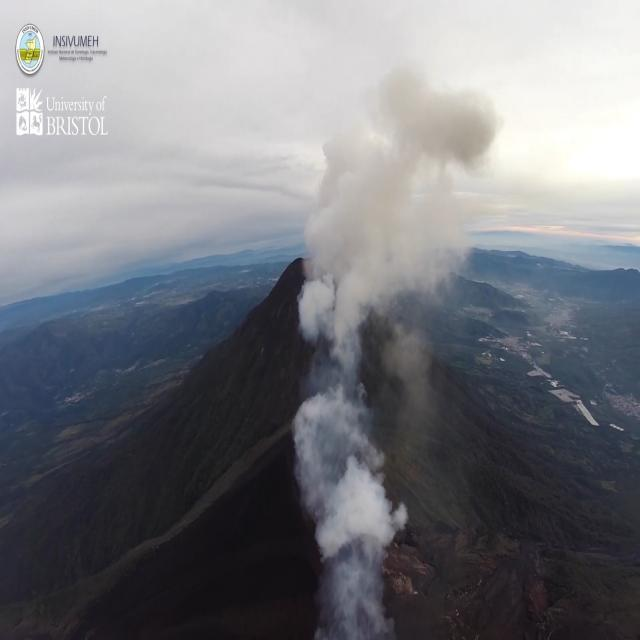Plume: (290, 64, 512, 637)
